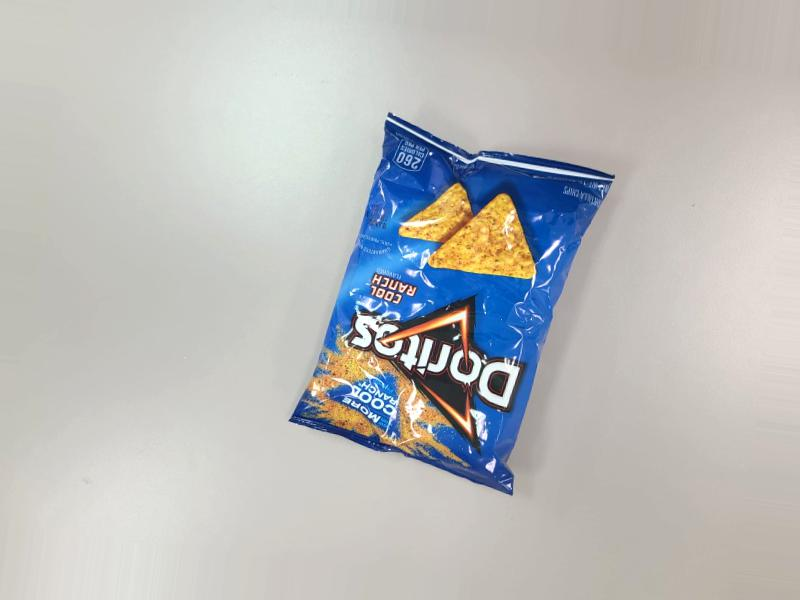doritos: (282, 108, 620, 509)
